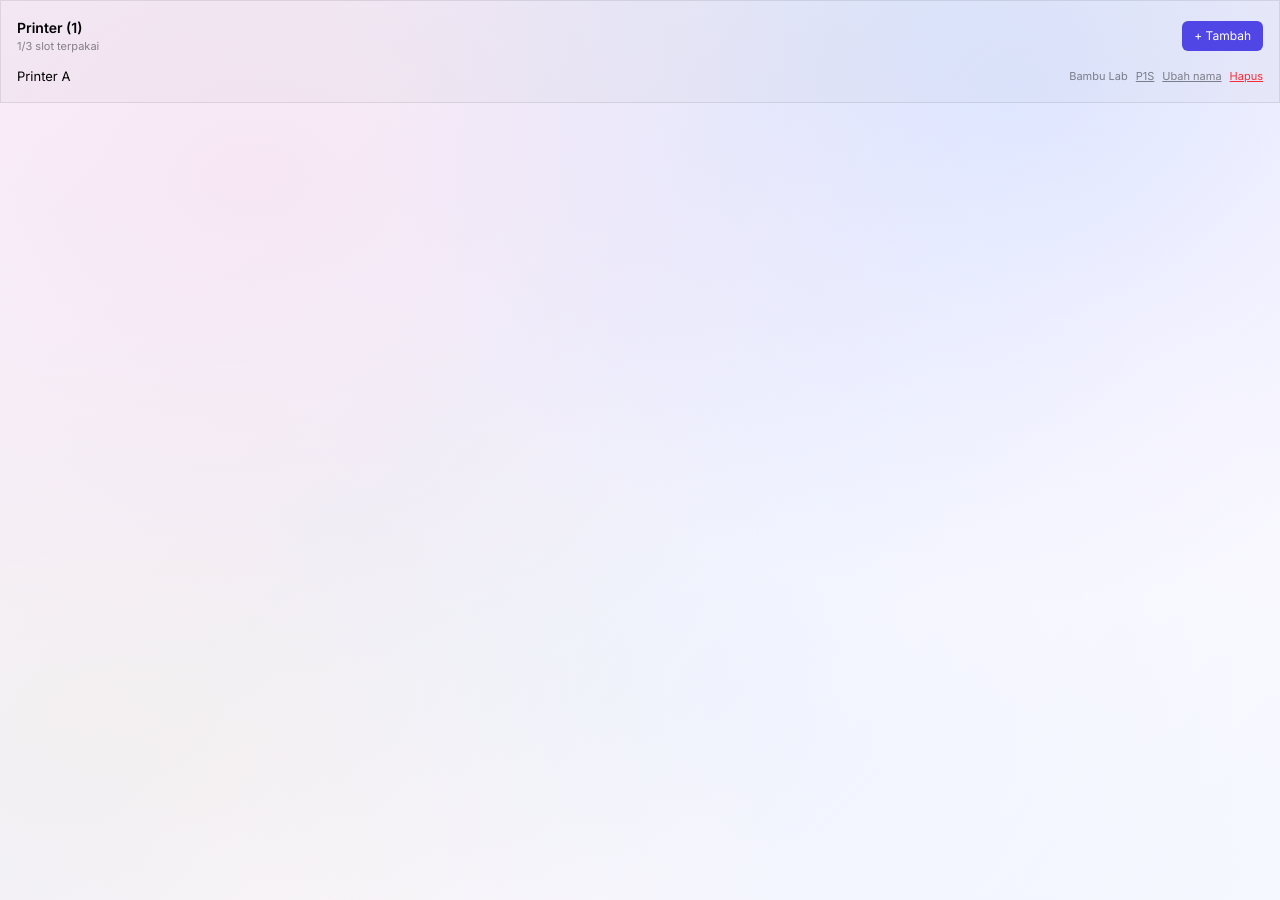
Test: DeviceList › hapus: tampilkan error & pertahankan device kalau DELETE gagal
Expected: the text "Printer A" is shown, [17, 68, 70, 84]
Click the button with aria-label "hapus printer a": (1246, 76) [1230, 68, 1263, 84]
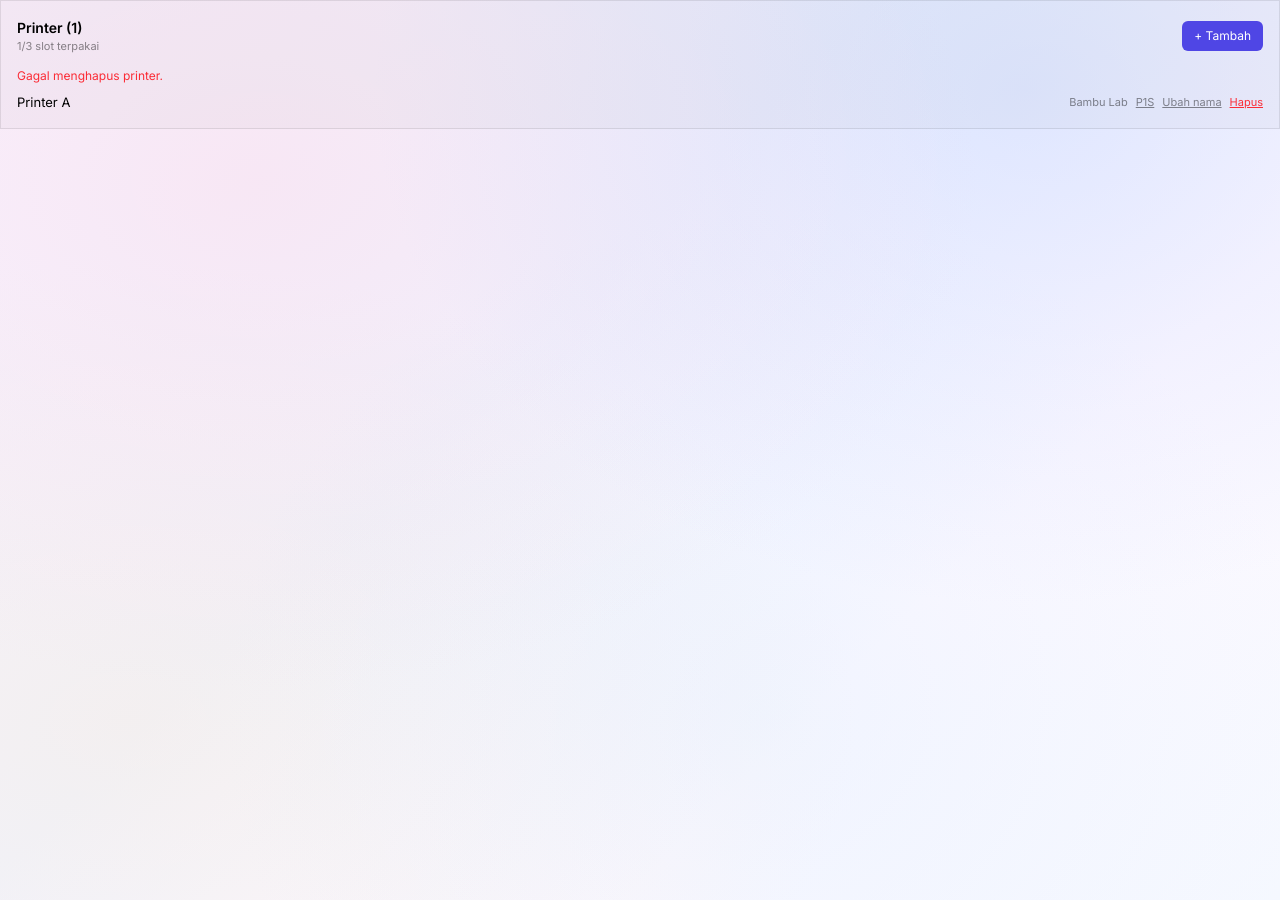
Expected: the text "Printer A" is shown, [17, 94, 70, 110]
Expected: the text "Gagal menghapus printer." is shown, [17, 68, 163, 82]
